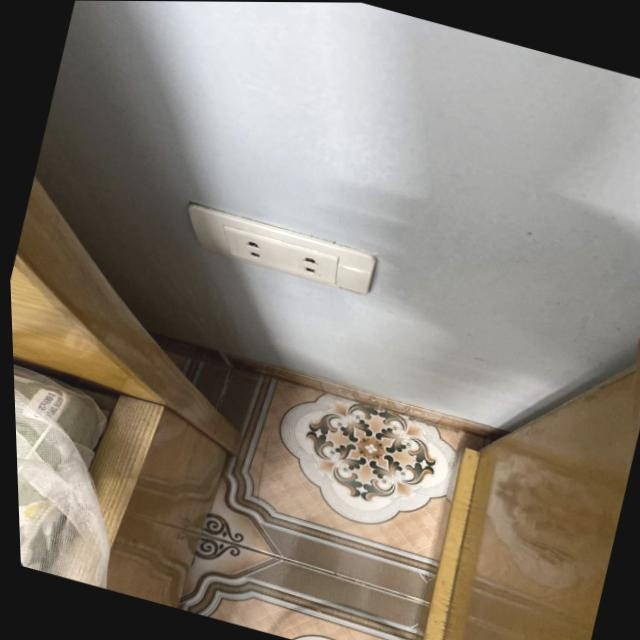outlet: (176, 200, 379, 297)
